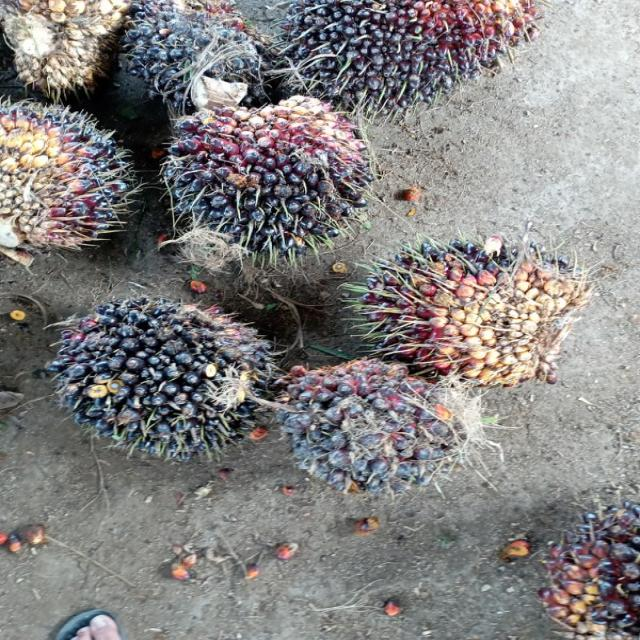fraksi 00: (357, 234, 596, 384), (63, 298, 268, 459), (162, 103, 370, 249), (279, 360, 472, 494), (293, 0, 541, 103), (0, 99, 145, 249), (119, 4, 274, 104)
